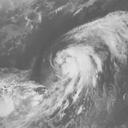cyclone: (50, 44, 103, 94)
